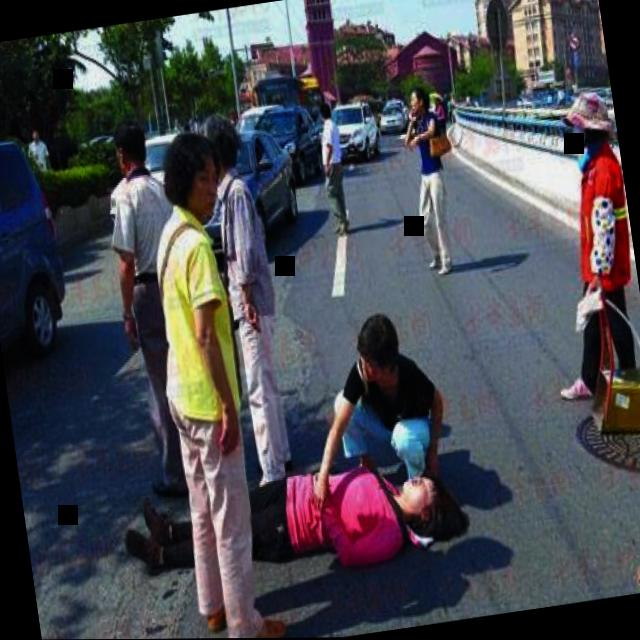Fall-Detected: (92, 420, 474, 620)
